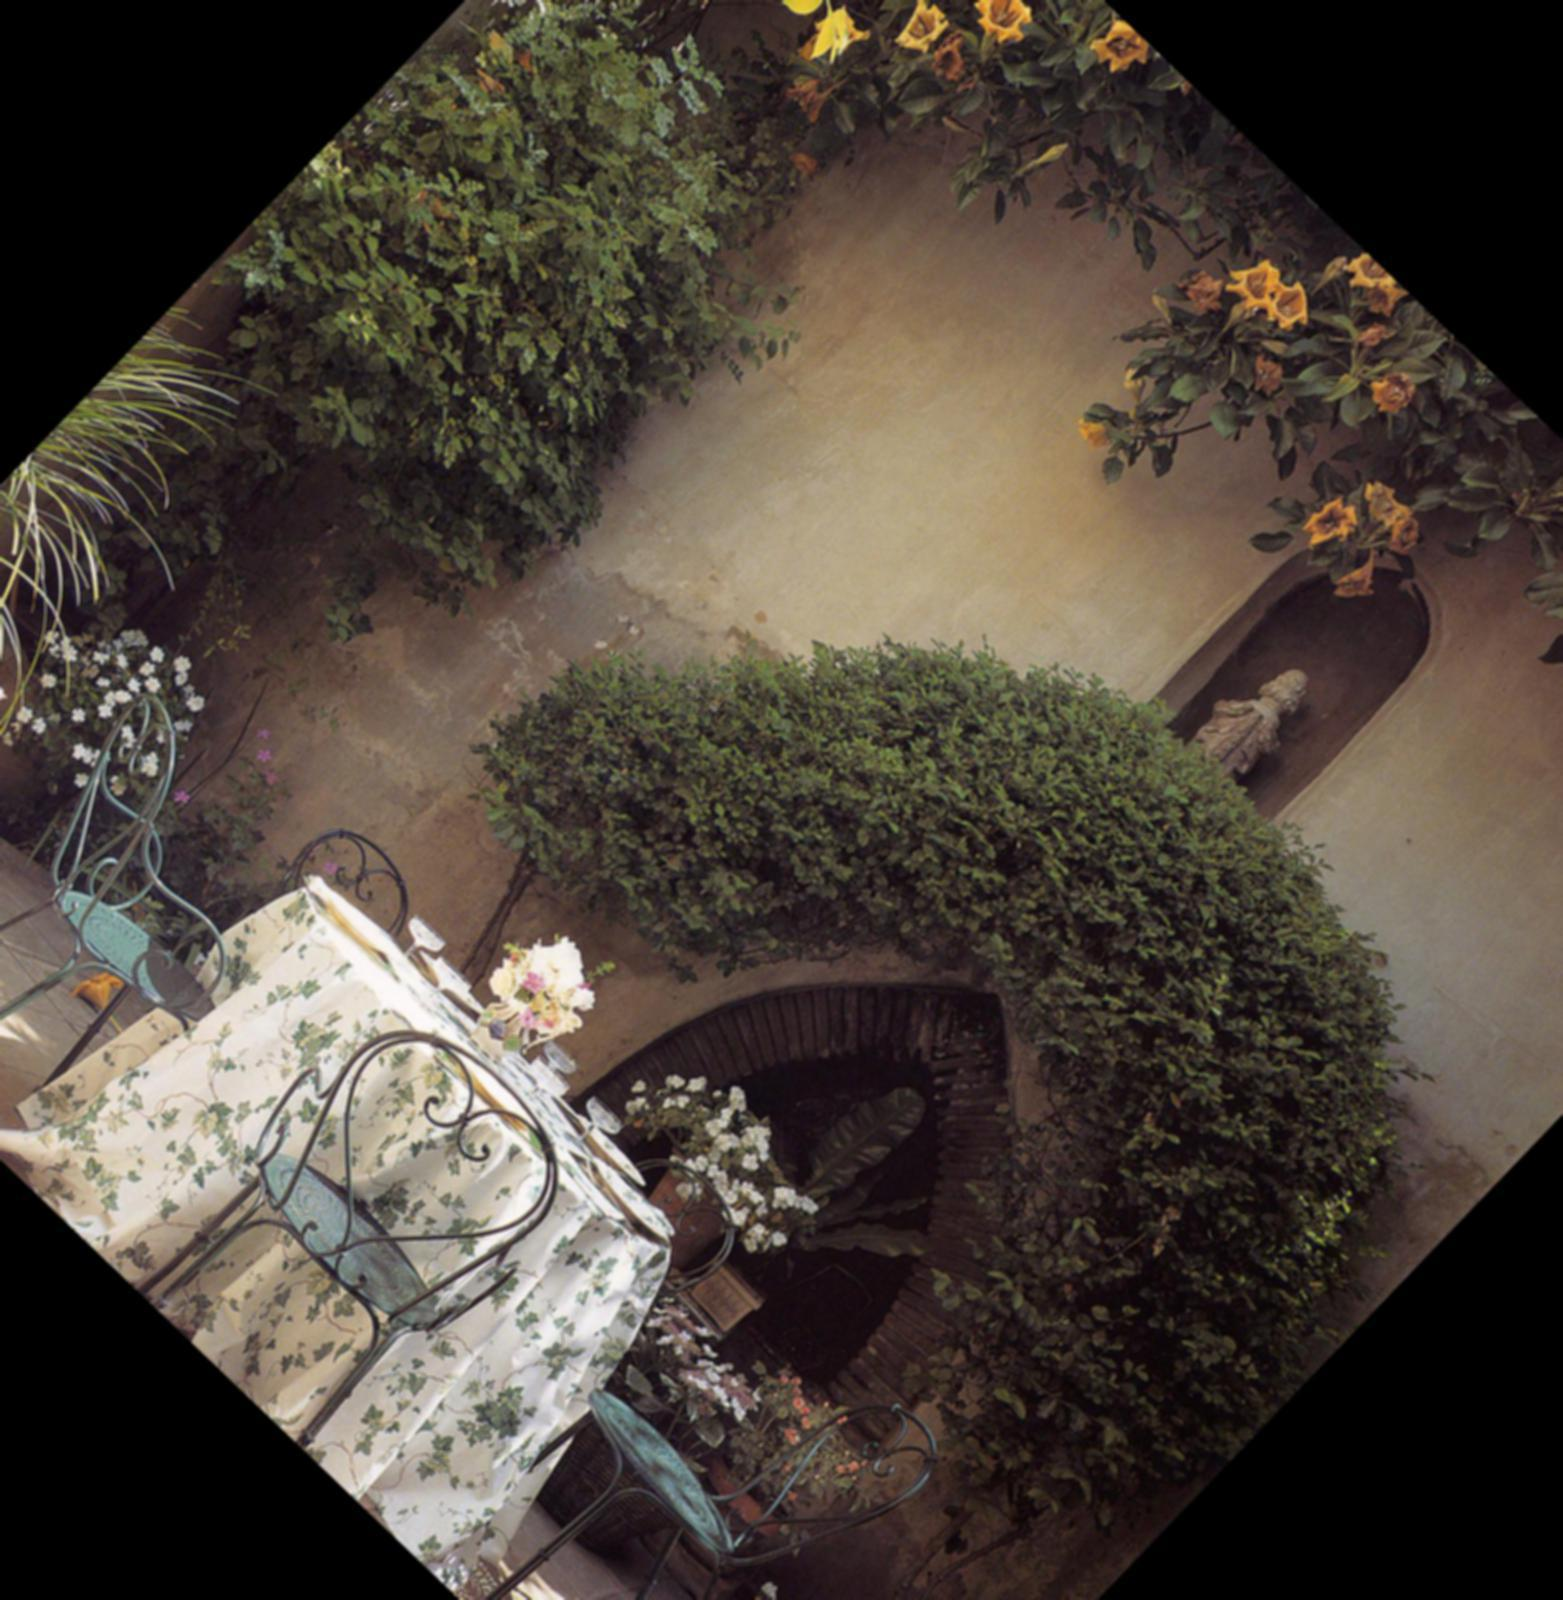Matera: (0, 371, 268, 949), (505, 1274, 819, 1590), (567, 1026, 862, 1318), (608, 1338, 892, 1600)
